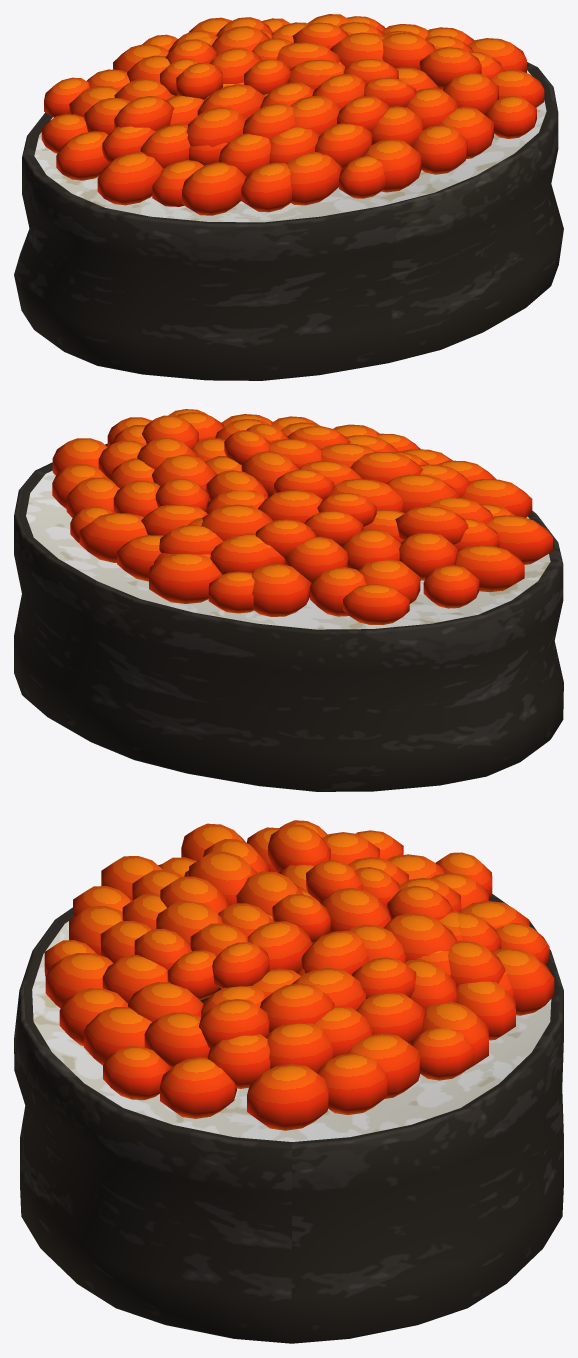
Rendered from Gunkan_maki.fbx.
3 views of the same model, one above another, from view 1: azimuth 30°, elevation 25°; view 2: azimuth 150°, elevation 25°; view 3: azimuth 270°, elevation 25° (orthographic). The views are drawn at different scales.
Parts seen in each view (by area): view 1: Gunkan_maki; view 2: Gunkan_maki; view 3: Gunkan_maki.
Boxes of the visible parts, x1,y1,x2,y2 form: Gunkan_maki: (14, 14, 563, 380); Gunkan_maki: (14, 409, 563, 791); Gunkan_maki: (14, 820, 563, 1343).
Size of the model in its own units: 1.01 by 0.7635 by 0.4297.
